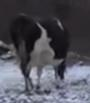cow: (10, 13, 71, 92)
